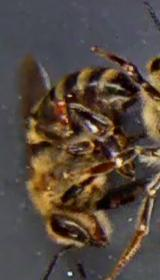varroa_mite: (49, 92, 72, 125)
